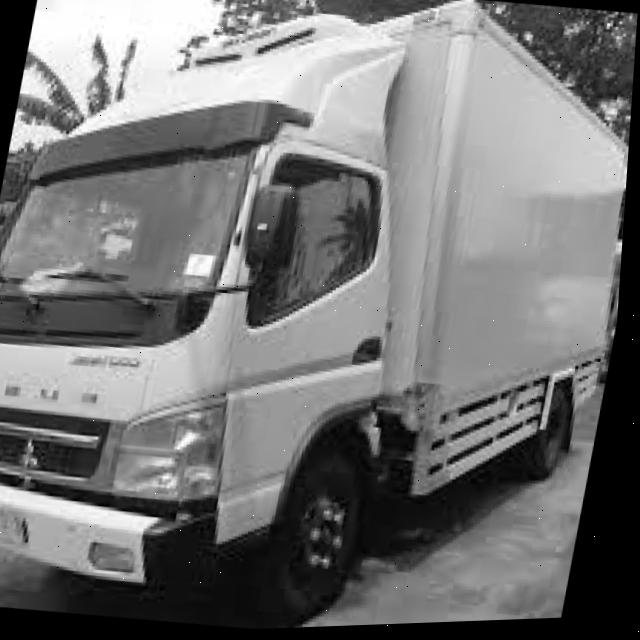truck: (1, 1, 473, 640)
